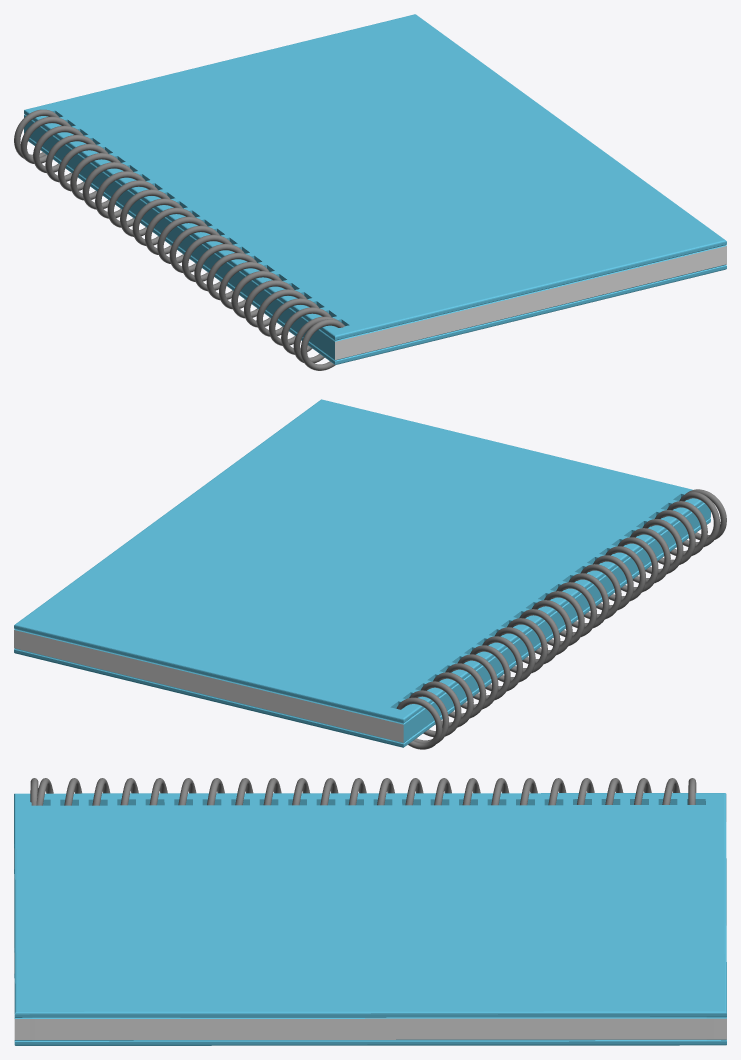
The model's file is notebook.fbx.
3 renders of one model, top to bottom at view 1: azimuth 30°, elevation 25°; view 2: azimuth 150°, elevation 25°; view 3: azimuth 270°, elevation 25°, orthographic. The views are drawn at different scales.
Visible parts, largest first — view 1: 16734_notebook_v1_NEW.002; view 2: 16734_notebook_v1_NEW.002; view 3: 16734_notebook_v1_NEW.002.
Part boxes in pixels (x1=…): 16734_notebook_v1_NEW.002: x1=14, y1=14, x2=726, y2=370; 16734_notebook_v1_NEW.002: x1=14, y1=399, x2=726, y2=749; 16734_notebook_v1_NEW.002: x1=14, y1=778, x2=726, y2=1045.
Size of the model in its own units: 114 by 13.16 by 147.
